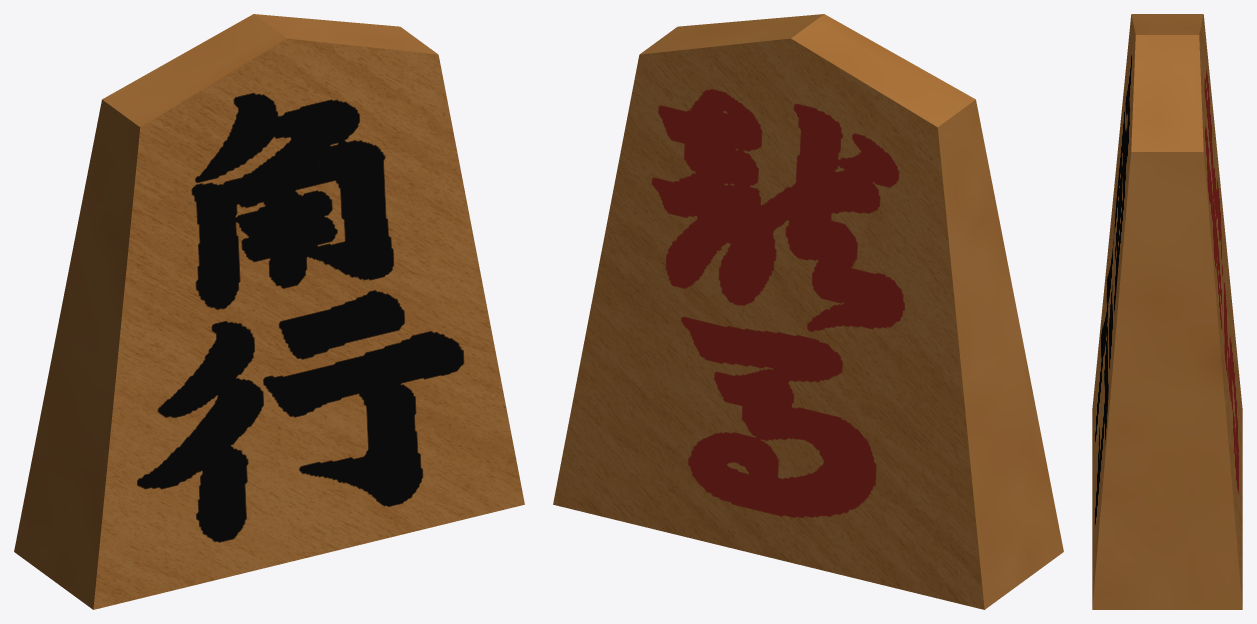
Rendered from kaku.glb.
3 renders of one model, left to right at view 1: azimuth 30°, elevation 25°; view 2: azimuth 150°, elevation 25°; view 3: azimuth 270°, elevation 25°, orthographic. The views are drawn at different scales.
Parts seen in each view (by area): view 1: 角行; view 2: 角行; view 3: 角行.
Boxes of the visible parts, left/top/right/bottom form: 角行: left=14, top=14, right=524, bottom=609; 角行: left=553, top=14, right=1063, bottom=609; 角行: left=1092, top=14, right=1242, bottom=609.
Size of the model in its own units: 2.7 by 3 by 0.86.
1 material, 1 textured.
